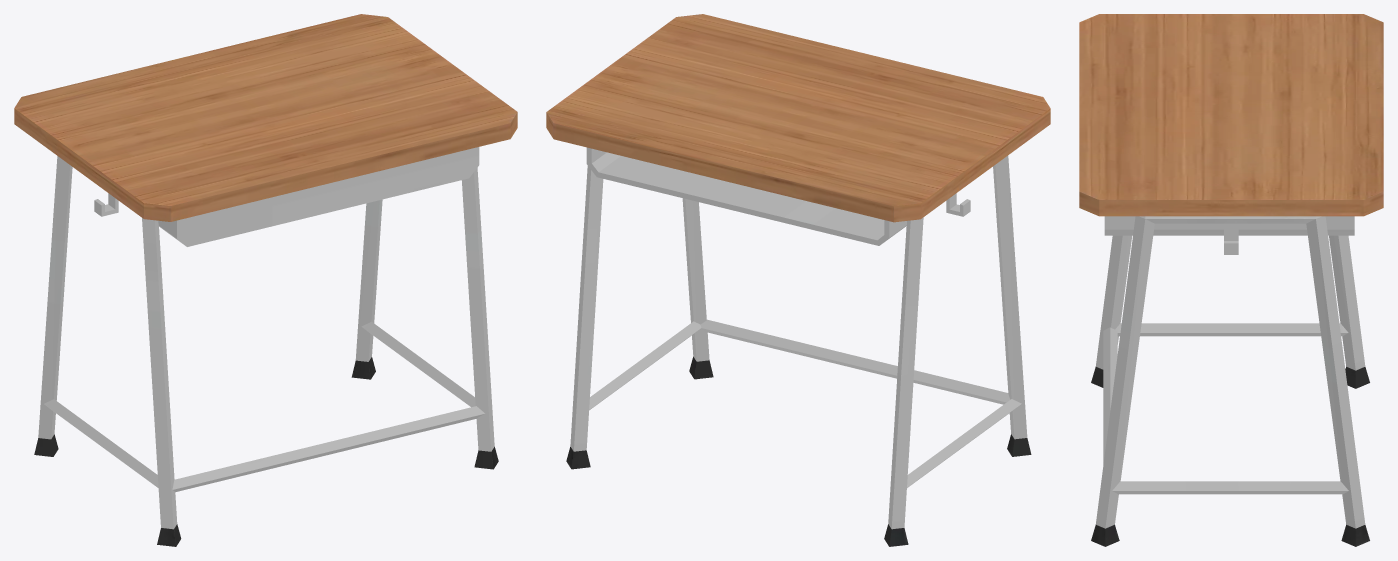
Rendered from scholar-writing-desk.glb.
The picture shows the model from 3 angles, left to right: view 1: azimuth 30°, elevation 25°; view 2: azimuth 150°, elevation 25°; view 3: azimuth 270°, elevation 25°; orthographic projection. The views are drawn at different scales.
Visible parts, largest first — view 1: desk__0; view 2: desk__0; view 3: desk__0.
Part boxes in pixels (x1,y1,x2,y2): desk__0: (14,14,517,546); desk__0: (546,14,1050,546); desk__0: (1079,14,1383,546).
Bounding box in the file's own units: 1.02 × 0.9032 × 0.7025.
Materials: 1 (1 with a texture image).
